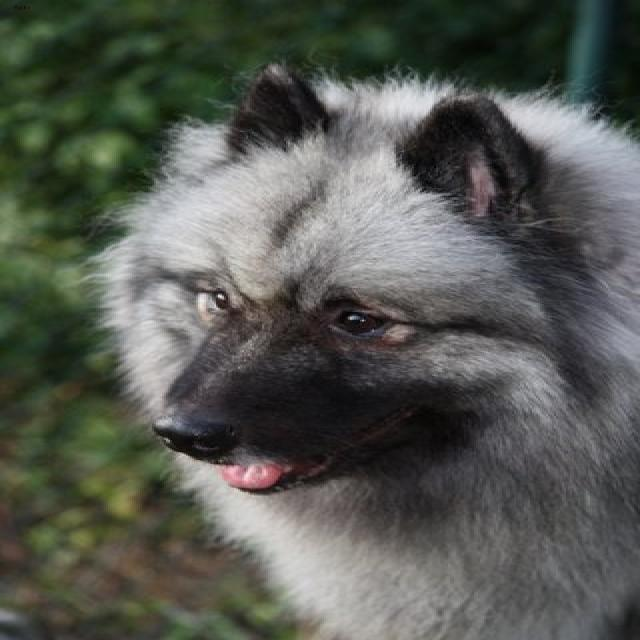dog-keeshond: (80, 45, 636, 637)
